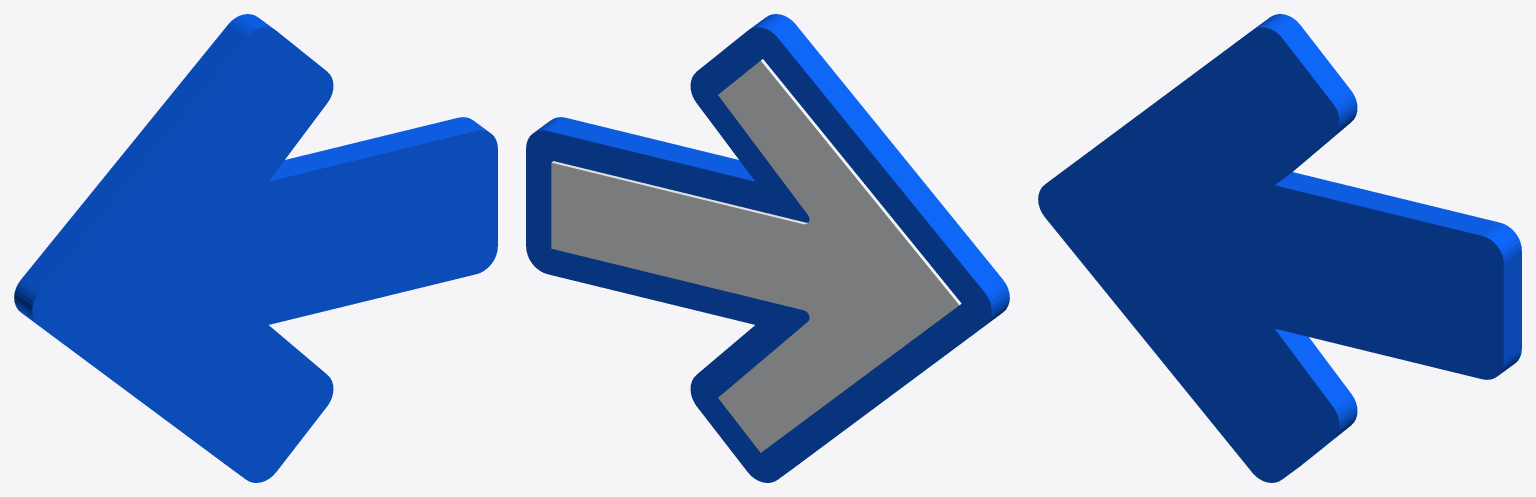
Rendered from 38-nodeworks-arrow.glb.
3 views of the same model, side by side, from view 1: azimuth 30°, elevation 25°; view 2: azimuth 150°, elevation 25°; view 3: azimuth 330°, elevation 25° (orthographic).
Parts seen in each view (by area): view 1: rounded_cobalt_arrow_outline; view 2: white_arrow_face_inset, rounded_cobalt_arrow_outline; view 3: rounded_cobalt_arrow_outline.
Part boxes in pixels (<box>): rounded_cobalt_arrow_outline: <box>14,14,497,482</box>; white_arrow_face_inset: <box>551,59,961,452</box>; rounded_cobalt_arrow_outline: <box>526,14,1009,482</box>; rounded_cobalt_arrow_outline: <box>1038,14,1521,482</box>.
Bounding box in the file's own units: 0.119 × 0.111 × 0.009.
